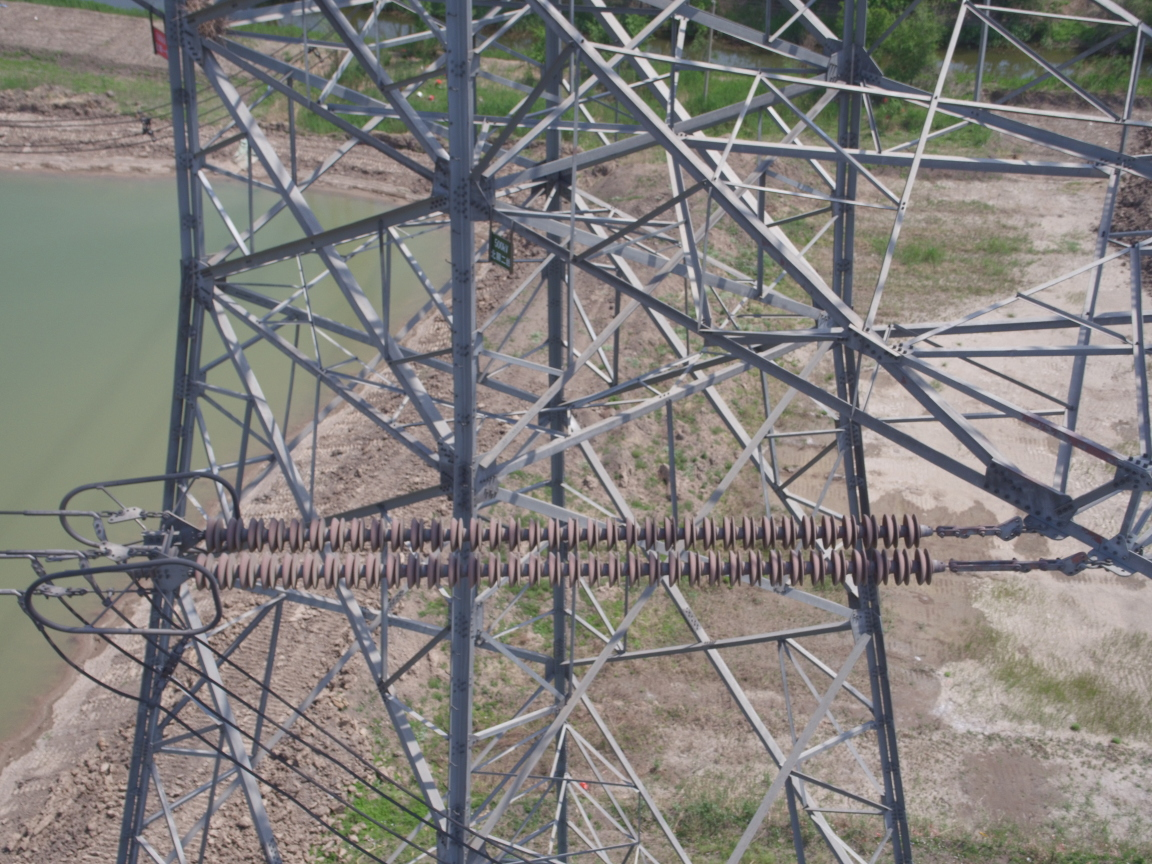insulator: (175, 510, 987, 595)
